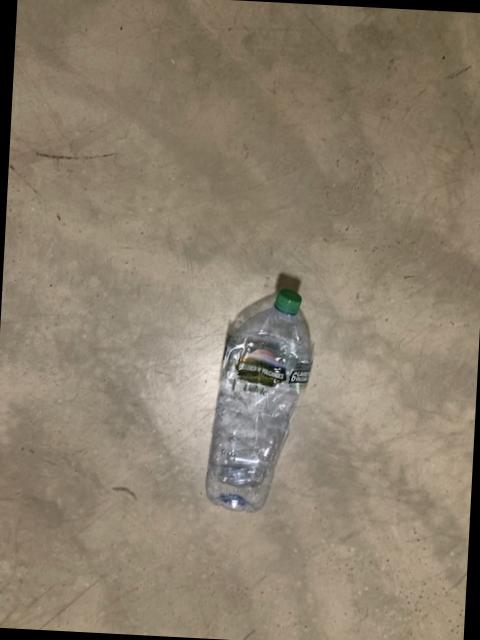plastic: (207, 290, 312, 512)
